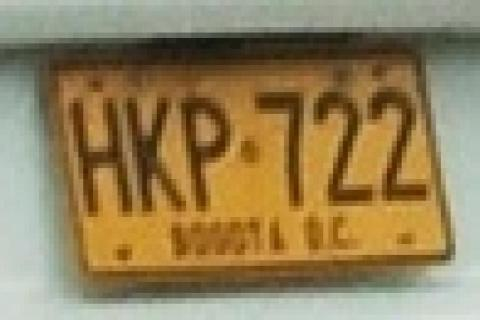LicensePlate: (30, 19, 466, 290)
